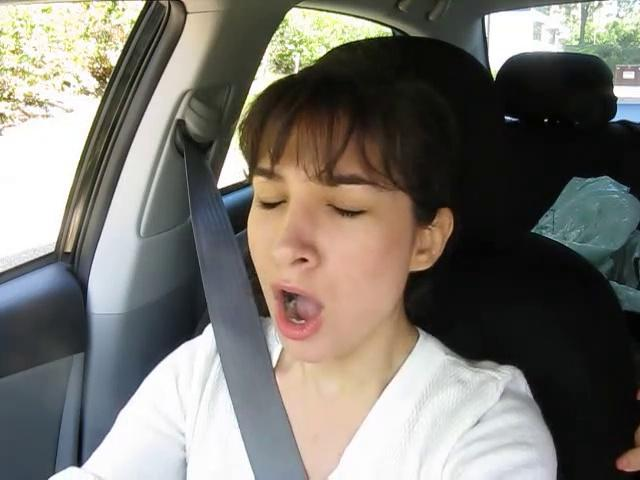close_eyeL: (248, 185, 298, 220)
close_eyeR: (311, 190, 382, 230)
yawn: (256, 280, 341, 348)
